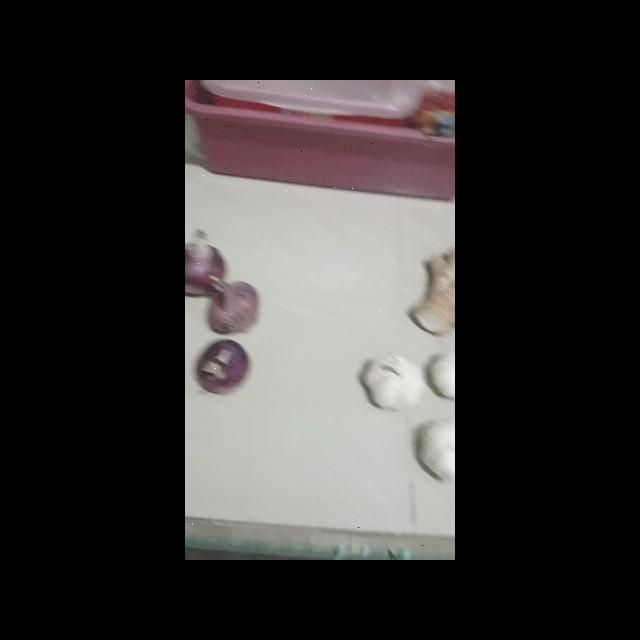garlic: (365, 350, 425, 410), (417, 415, 455, 481), (427, 342, 455, 402)
ginger: (410, 243, 455, 337)
onion: (206, 270, 261, 336), (196, 339, 250, 397), (186, 228, 227, 301)
